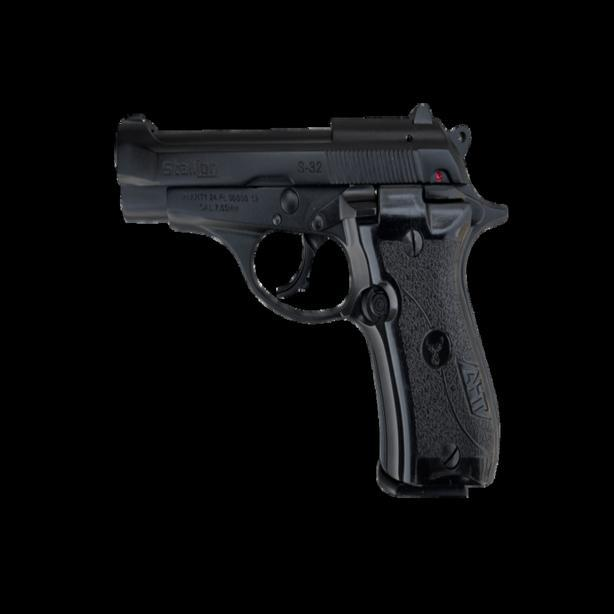Firearm: (92, 93, 554, 547)
